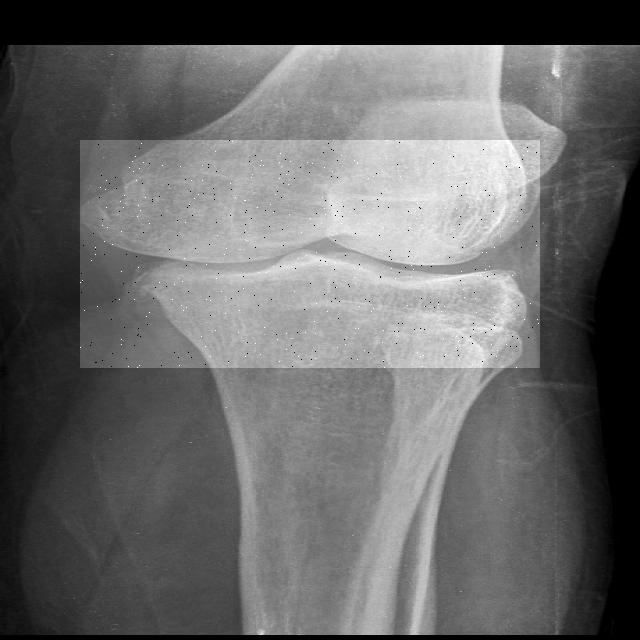osteo: (80, 140, 540, 368)
